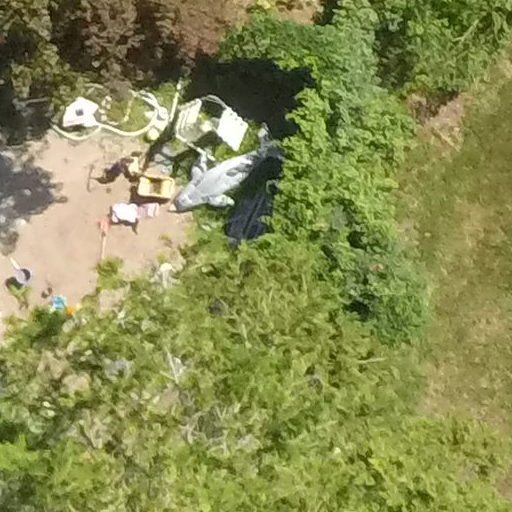clutter: (7, 63, 308, 353)
